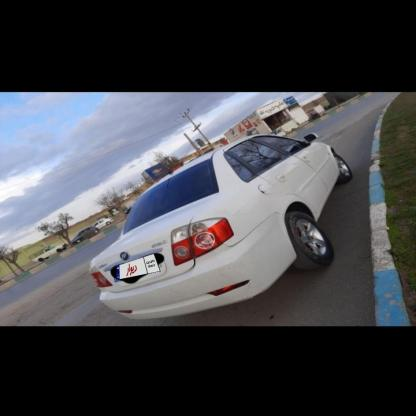Car: (91, 149, 351, 324), (32, 239, 66, 260), (72, 224, 99, 242), (89, 217, 120, 225)
